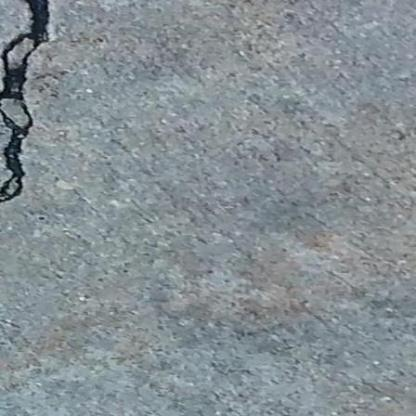Cracks: (1, 0, 80, 219)
